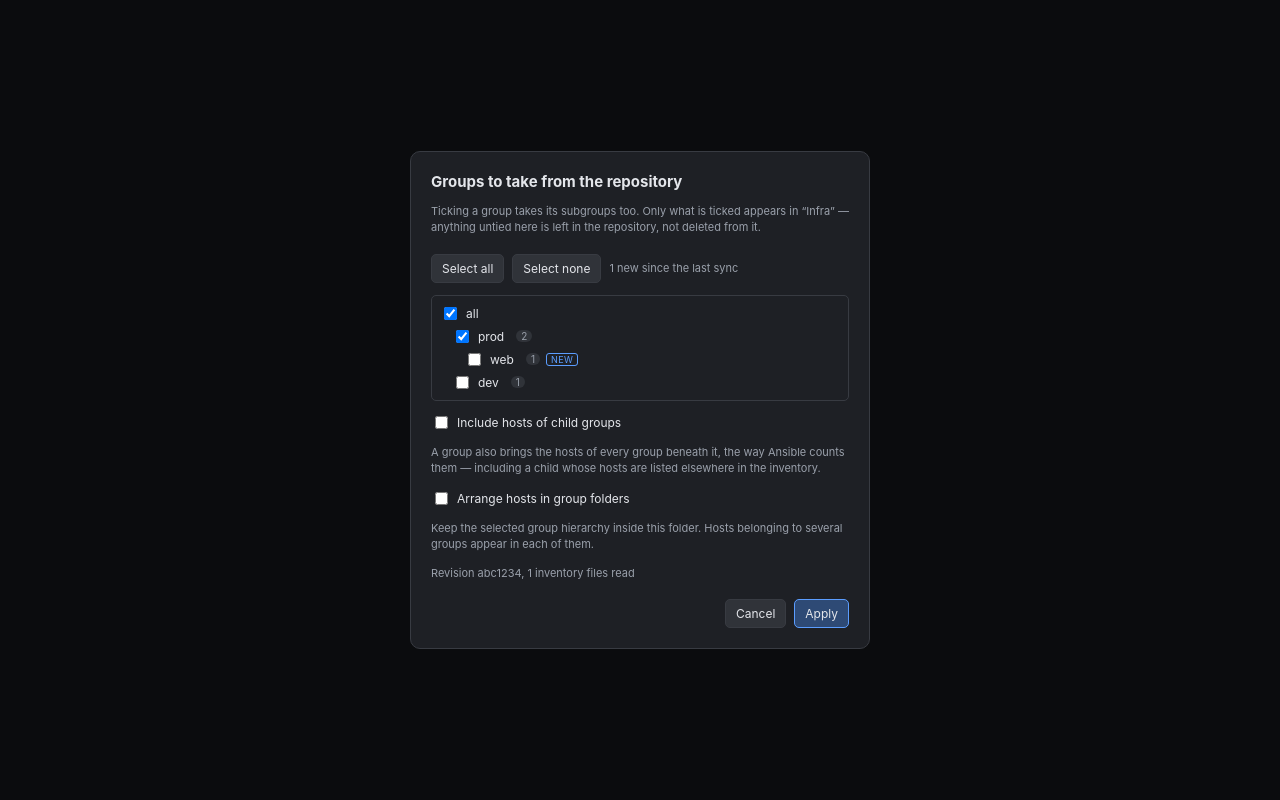
Scenario: the sync dialog › keeps the dialog open with an error when applying fails
What coordinates should you click on to do the following:
click the button "Apply"
I would click on:
 (822, 614)
Its box is [794,599,849,628].
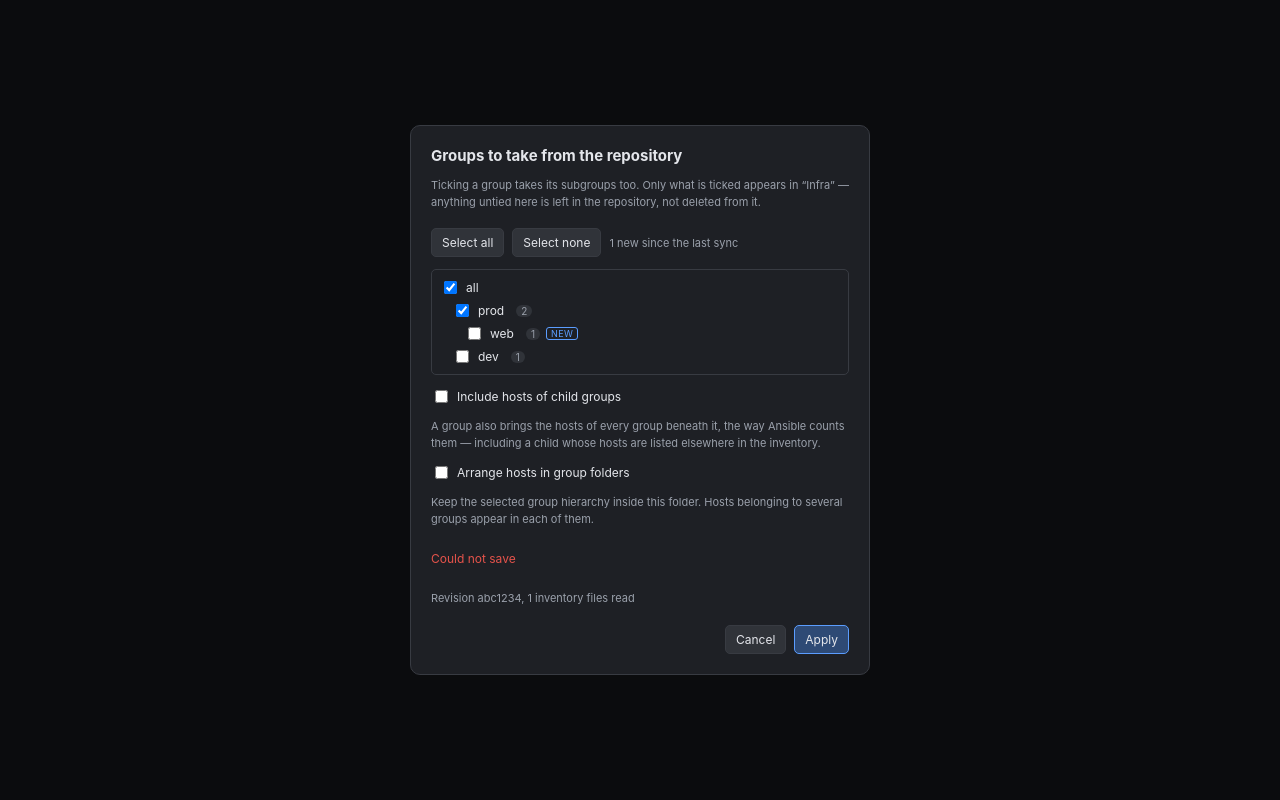
Check: the button "Apply" is enabled, box [794,625,849,654]
Check: the message reads "Could not save", box [431,551,516,566]
